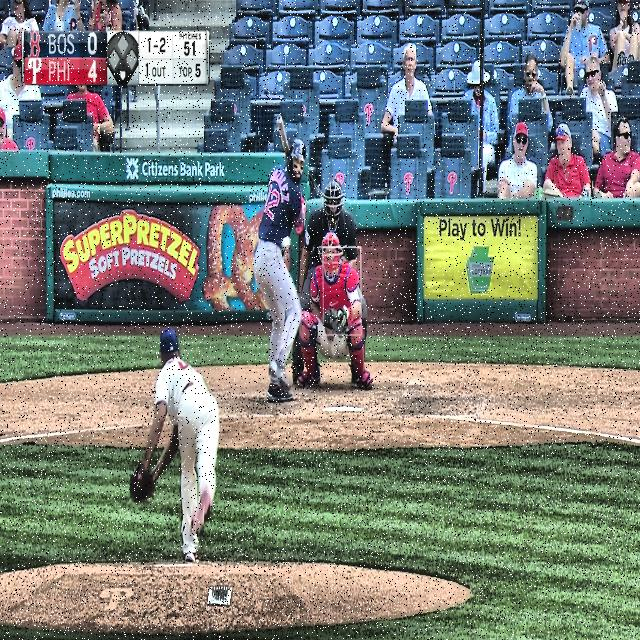baseball: (280, 236, 290, 249)
